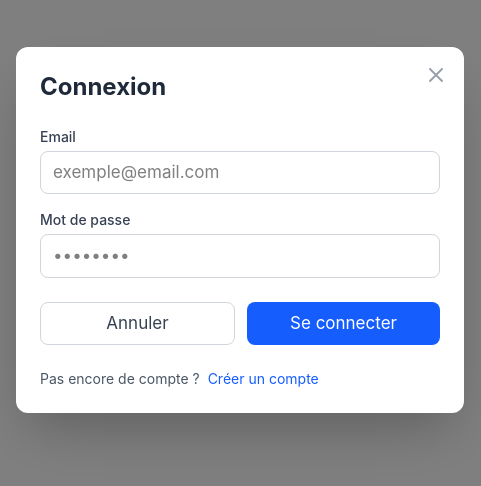
Scenario: LoginModal › gère les erreurs inattendues avec élégance
This screenshot has width=481, height=486.
Type "test@example.com" into the field labelled "Email" at (240, 173), box [40,151,440,194]
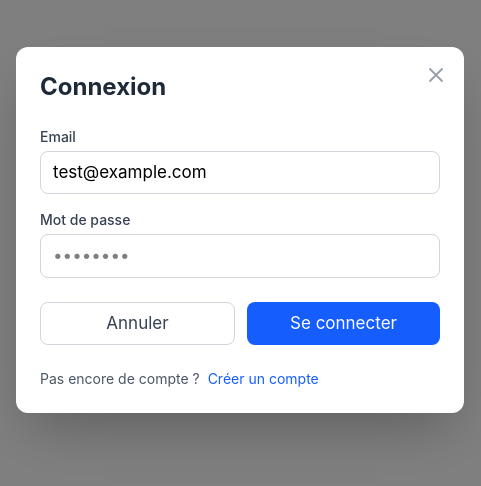
Type "password123" into the password field labelled "Mot de passe" at (240, 256), box [40,234,440,278]
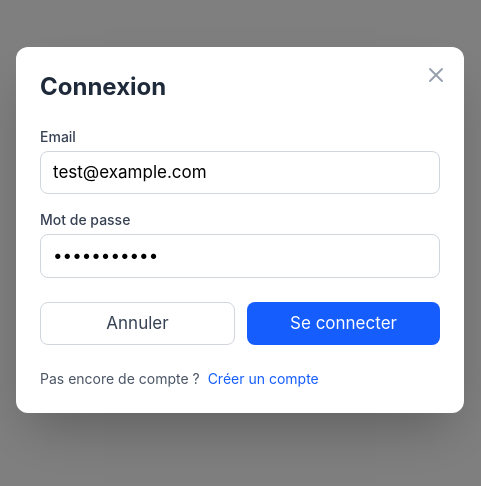
Submit the form, box [40,127,440,389]
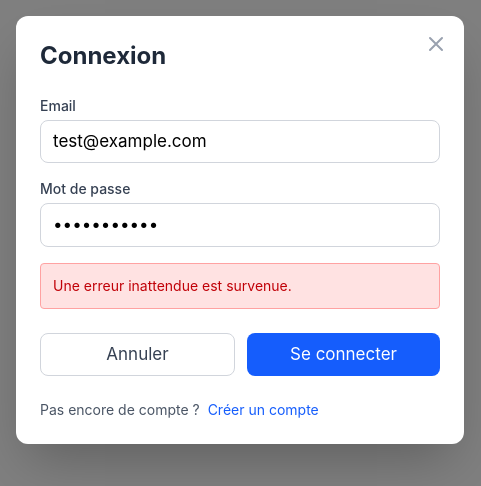
Result: the text "Une erreur inattendue est survenue" is shown at [53,277,292,294]
